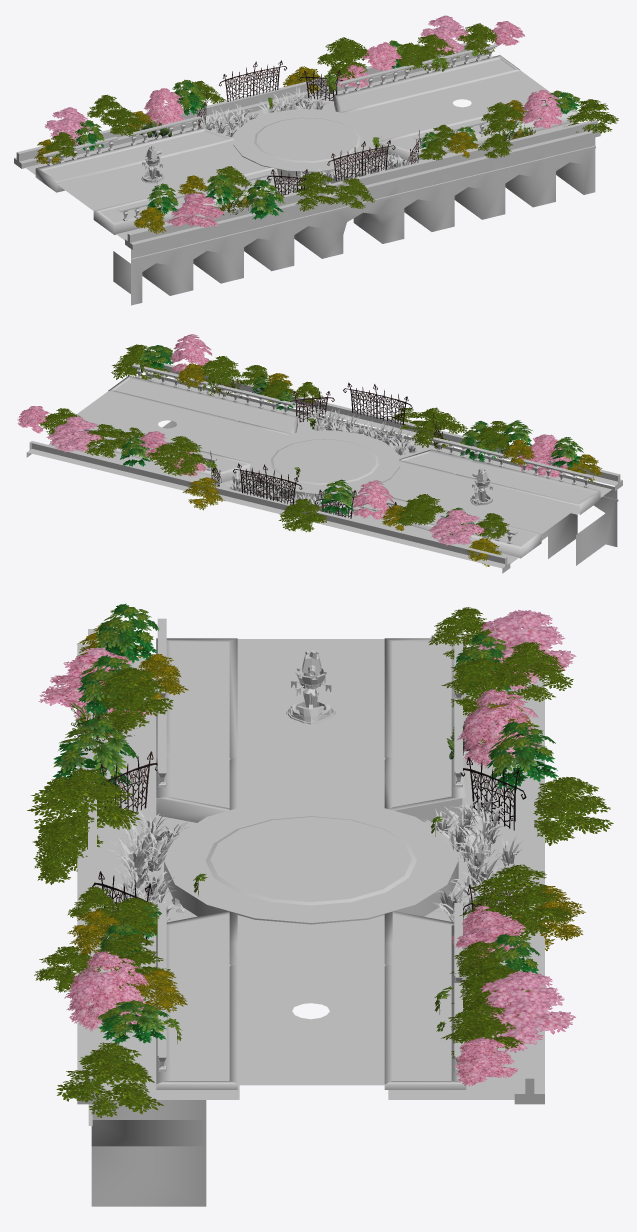
Rendered from duel_ground01.FBX.
3 views of the same model, one above another, from view 1: azimuth 30°, elevation 25°; view 2: azimuth 150°, elevation 25°; view 3: azimuth 270°, elevation 25° (orthographic). The views are drawn at different scales.
Parts seen in each view (by area): view 1: duel_bridge01, Level01-ground01, Level01-ground03, Level01-langan02_ncl1_1, Level01-ground02, Level01-taijie01, Level01-langan02, Level01-grass01, Level01-tree03_ncl1_15, Level01-tree01_ncl1_3, Level01-tree01, Level01-zhalan01 (+35 smaller); view 2: Level01-ground01, Level01-ground03, Level01-ground02, Level01-langan02, Level01-taijie01, duel_bridge01, Level01-langan02_ncl1_1, Level01-grass01_ncl1_1, Level01-grass01, Level01-tree03_ncl1_15, Level01-tree01_ncl1_5, Level01-tree03_ncl1_6 (+37 smaller); view 3: Level01-ground01, Level01-ground02, Level01-ground03, Level01-taijie01, duel_bridge01, Level01-grass01_ncl1_1, Level01-langan02, Level01-grass01, Level01-tree03_ncl1_12, Level01-tree01_ncl1_7, Level01-tree03_ncl1_6, Level01-langan02_ncl1_1 (+34 smaller).
Boxes of the visible parts, left/top/right/bottom form: duel_bridge01: left=113, top=137, right=595, bottom=305; Level01-ground01: left=57, top=70, right=550, bottom=210; Level01-ground03: left=233, top=109, right=381, bottom=179; Level01-langan02_ncl1_1: left=125, top=119, right=600, bottom=249; Level01-ground02: left=44, top=59, right=570, bottom=222; Level01-taijie01: left=35, top=55, right=578, bottom=234; Level01-langan02: left=14, top=40, right=488, bottom=168; Level01-grass01: left=25, top=55, right=487, bottom=174; Level01-tree03_ncl1_15: left=317, top=37, right=369, bottom=79; Level01-tree01_ncl1_3: left=167, top=192, right=225, bottom=227; Level01-tree01: left=522, top=89, right=562, bottom=128; Level01-zhalan01: left=327, top=140, right=395, bottom=181; Level01-ground01: left=76, top=391, right=579, bottom=533; Level01-ground03: left=249, top=430, right=400, bottom=502; Level01-ground02: left=76, top=379, right=592, bottom=545; Level01-langan02: left=26, top=441, right=510, bottom=573; Level01-taijie01: left=49, top=375, right=600, bottom=558; duel_bridge01: left=145, top=373, right=618, bottom=565; Level01-langan02_ncl1_1: left=141, top=360, right=622, bottom=490; Level01-grass01_ncl1_1: left=144, top=376, right=611, bottom=514; Level01-grass01: left=48, top=442, right=518, bottom=563; Level01-tree03_ncl1_15: left=147, top=436, right=208, bottom=475; Level01-tree01_ncl1_5: left=428, top=509, right=484, bottom=545; Level01-tree03_ncl1_6: left=409, top=407, right=467, bottom=448; Level01-ground01: left=237, top=639, right=385, bottom=1085; Level01-ground02: left=166, top=641, right=451, bottom=1080; Level01-ground03: left=164, top=798, right=458, bottom=924; Level01-taijie01: left=156, top=638, right=466, bottom=1089; duel_bridge01: left=88, top=1100, right=206, bottom=1206; Level01-grass01_ncl1_1: left=107, top=656, right=239, bottom=1099; Level01-langan02: left=514, top=629, right=544, bottom=1104; Level01-grass01: left=388, top=657, right=514, bottom=1099; Level01-tree03_ncl1_12: left=56, top=1042, right=163, bottom=1117; Level01-tree01_ncl1_7: left=474, top=971, right=575, bottom=1052; Level01-tree03_ncl1_6: left=27, top=767, right=140, bottom=836; Level01-langan02_ncl1_1: left=77, top=629, right=107, bottom=1104.
Size of the model in its own units: 322 by 174 by 68.78.
